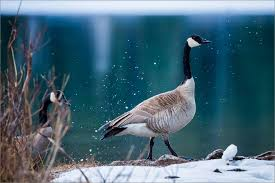goose: (95, 34, 213, 164)
